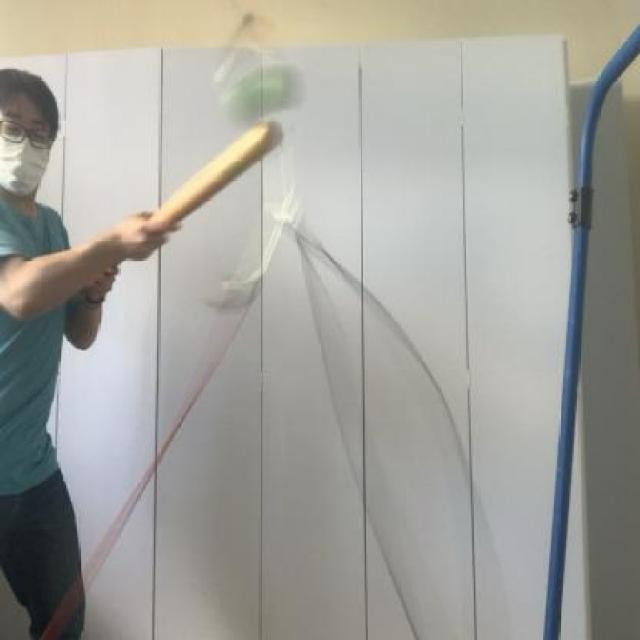baseball: (213, 39, 313, 136)
